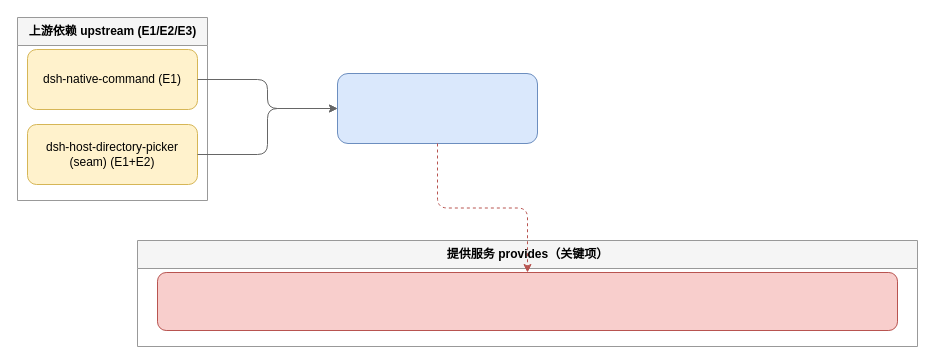
Image size: 935x364. Some labels were removed from this diagram. Each missing label, with the centre of its shape:
"@deepseek-ai/dsh-host-directory-picker-native" belongs at pixel 437 108.
"ctx.directoryPicker（native capability: pick）" belongs at pixel 527 301.
